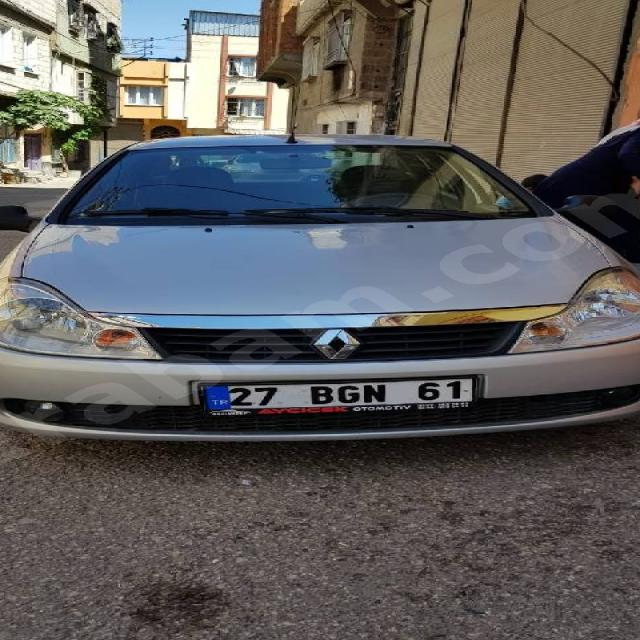license_plate: (198, 378, 478, 412)
